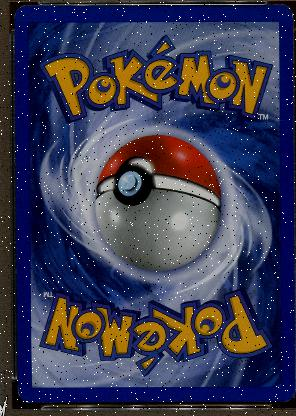Card: (11, 2, 293, 408)
Corner Wear: (277, 384, 293, 402), (16, 387, 34, 403), (279, 4, 294, 18), (12, 4, 25, 20)
Scratch: (267, 328, 287, 334), (273, 118, 285, 121)
